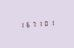one: (17, 21, 22, 28), (36, 20, 41, 27), (48, 19, 53, 26)
seven: (30, 20, 35, 28)
six: (23, 20, 28, 28)
zero: (42, 19, 47, 27)
